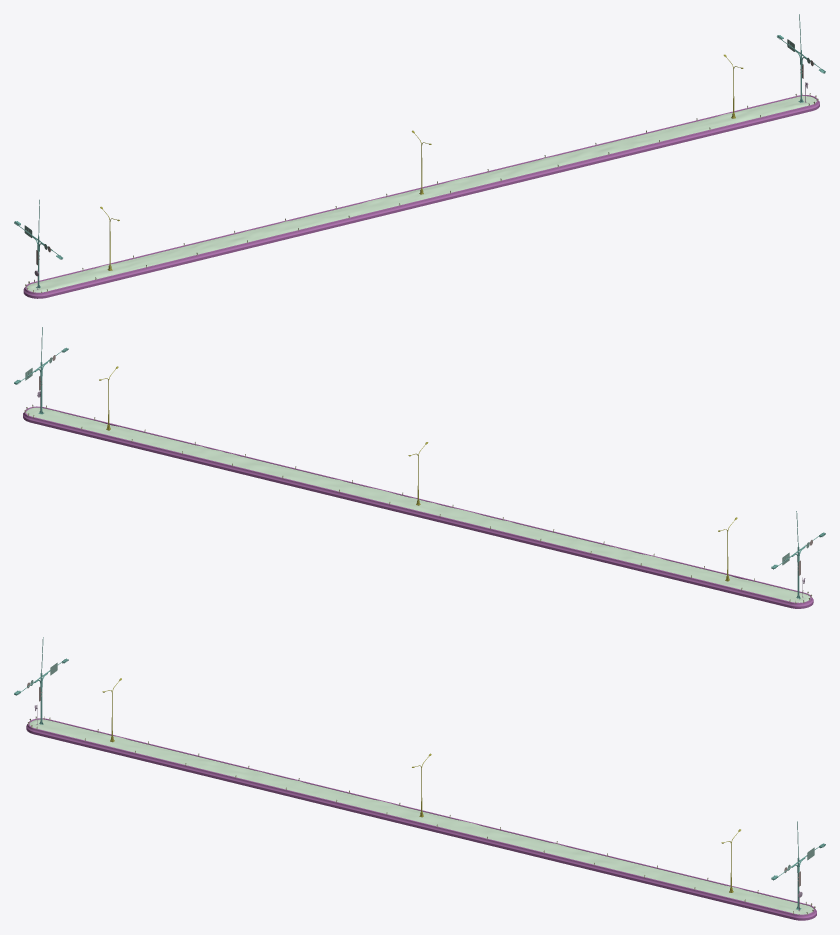
File: Median.fbx
3 views of the same model, one above another, from view 1: azimuth 30°, elevation 25°; view 2: azimuth 150°, elevation 25°; view 3: azimuth 330°, elevation 25° (orthographic).
Parts seen in each view (by area): view 1: median_aa_grass_geo1, median_aa_geo1; view 2: median_aa_grass_geo1, median_aa_geo1; view 3: median_aa_grass_geo1, median_aa_geo1.
Boxes of the visible parts, bbox=[...] form: median_aa_grass_geo1: bbox=[26, 96, 816, 292]; median_aa_geo1: bbox=[23, 95, 819, 298]; median_aa_grass_geo1: bbox=[26, 407, 810, 602]; median_aa_geo1: bbox=[23, 406, 813, 608]; median_aa_grass_geo1: bbox=[29, 719, 813, 914]; median_aa_geo1: bbox=[26, 718, 816, 920].
Bounding box in the file's own units: 8895 × 987 × 953.
